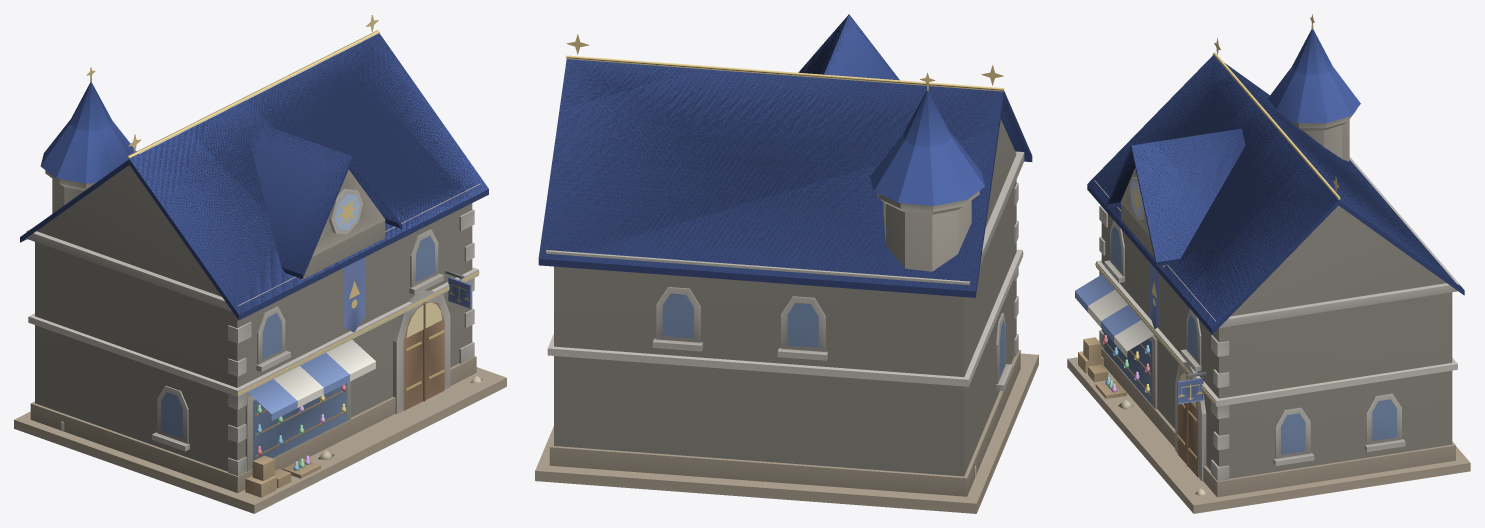
Rendered from guild_lite.glb.
3 renders of one model, left to right at view 1: azimuth 30°, elevation 25°; view 2: azimuth 150°, elevation 25°; view 3: azimuth 270°, elevation 25°, orthographic. The views are drawn at different scales.
Parts seen in each view (by area): view 1: Guild_stone, Guild_roof, Guild_props, Guild_glow; view 2: Guild_stone, Guild_roof, Guild_props; view 3: Guild_stone, Guild_roof, Guild_props, Guild_glow.
Boxes of the visible parts, x1=… form: Guild_stone: x1=14, y1=165, x2=506, y2=513; Guild_roof: x1=20, y1=33, x2=488, y2=320; Guild_props: x1=86, y1=15, x2=482, y2=497; Guild_glow: x1=256, y1=194, x2=442, y2=470; Guild_stone: x1=535, y1=119, x2=1038, y2=513; Guild_roof: x1=538, y1=14, x2=1032, y2=297; Guild_props: x1=566, y1=34, x2=1023, y2=376; Guild_stone: x1=1067, y1=109, x2=1470, y2=513; Guild_roof: x1=1087, y1=29, x2=1464, y2=334; Guild_props: x1=1075, y1=14, x2=1396, y2=496; Guild_glow: x1=1102, y1=181, x2=1196, y2=408.
Bounding box in the file's own units: 12 × 10 × 10.81.
